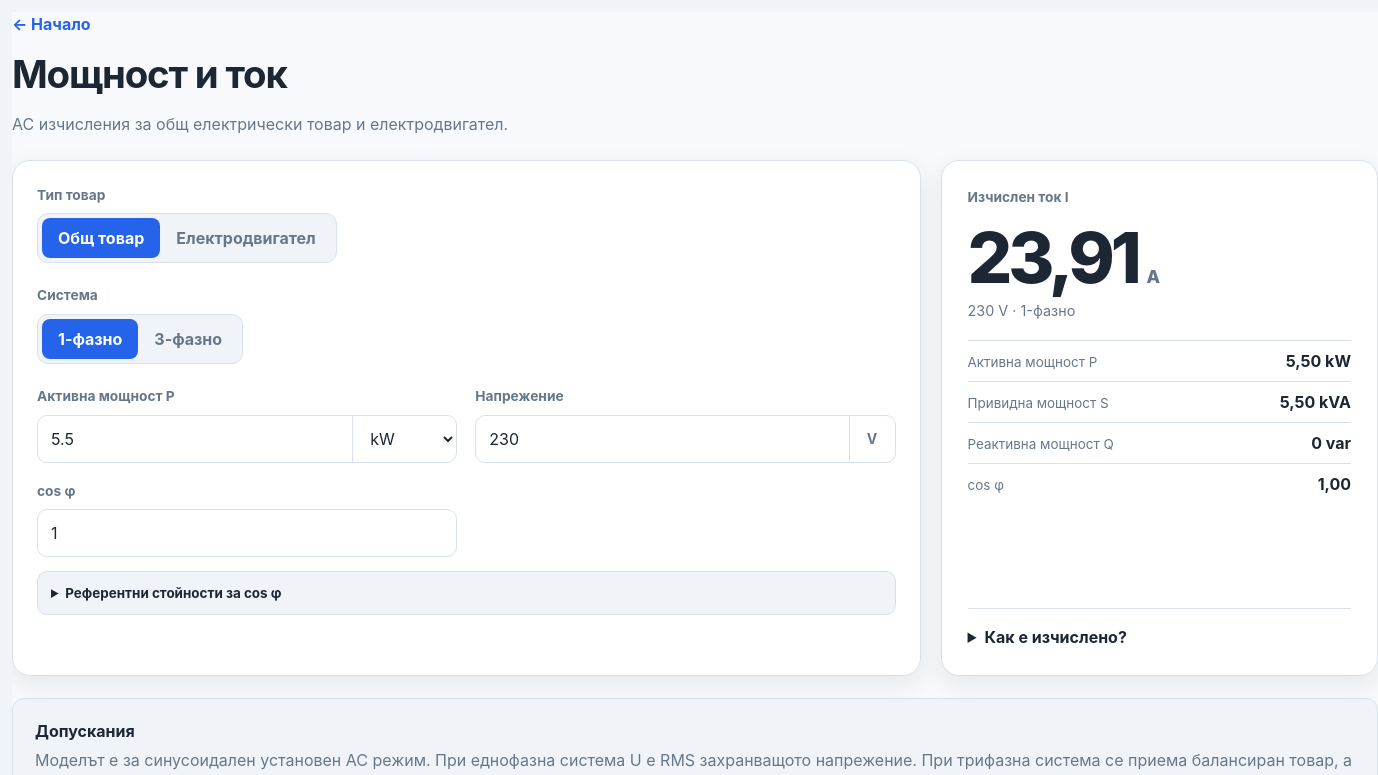
Test case: PowerCurrentCalculator › switches load modes and shows efficiency only for a motor
This screenshot has width=1378, height=775.
Expected: the field labelled "Активна мощност P" is shown, [38,416,352,462]
Expected: the field labelled "Ефективност η" is not shown
Step 1. Click the button "Електродвигател" → point(246, 238), box [160,218,332,258]
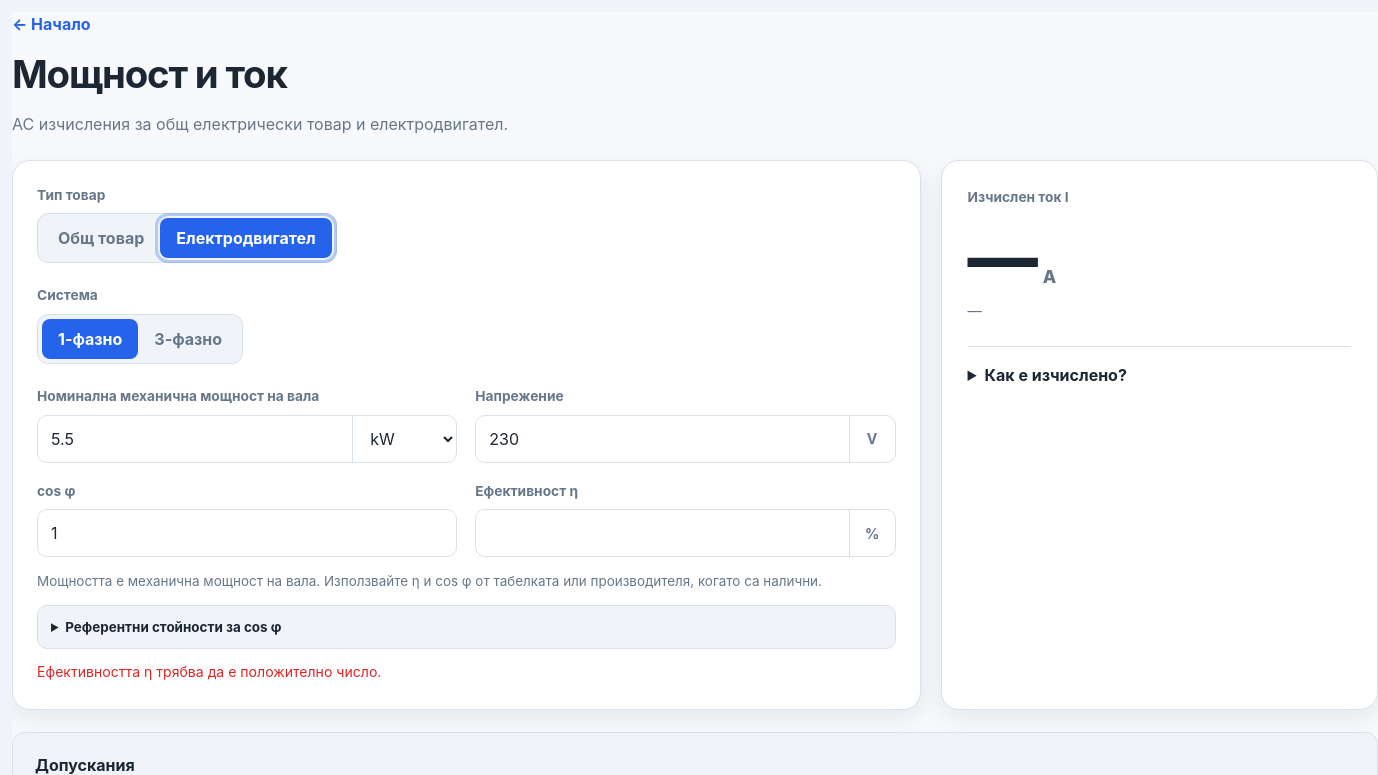
Expected: the field labelled "Номинална механична мощност на вала" is shown, [38,416,352,462]
Now the field labelled "Ефективност η %" is shown, box [476,510,849,556]
Now the label labelled "Активна мощност P" is gone
